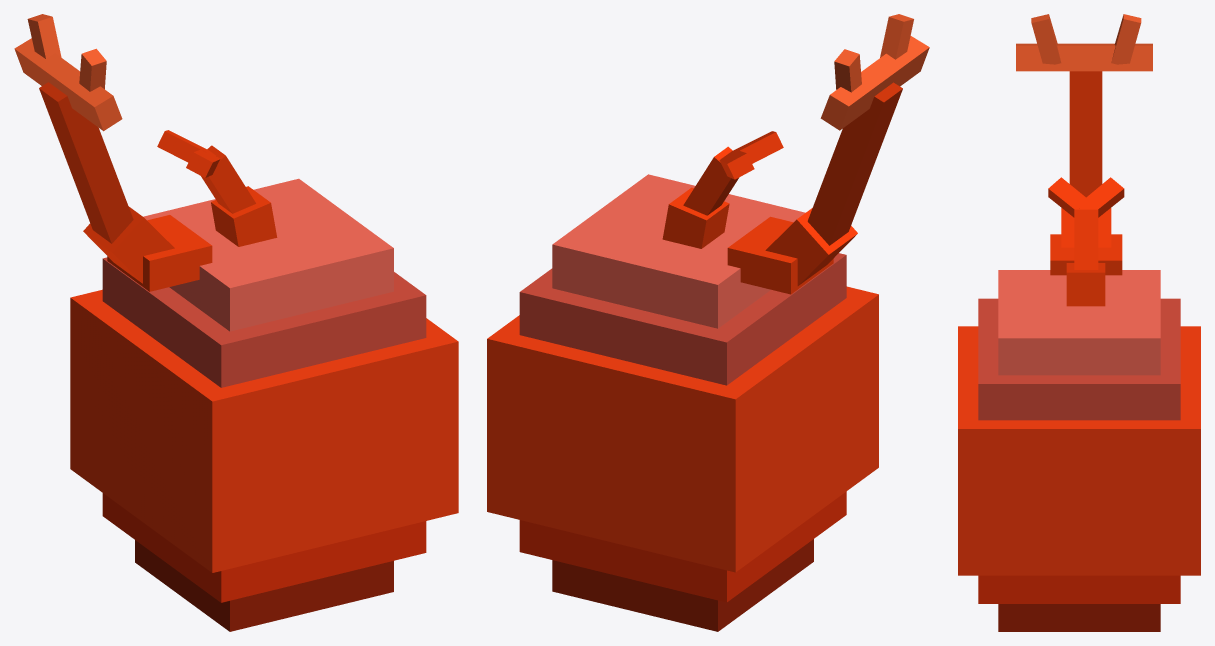
File: egg_prismatic.obj
3 views of the same model, side by side, from view 1: azimuth 30°, elevation 25°; view 2: azimuth 150°, elevation 25°; view 3: azimuth 270°, elevation 25° (orthographic). The views are drawn at different scales.
Visible parts, largest first — view 1: E3, E1U, E2U, E2D, E1D; view 2: E3, E1U, E2U, E2D, E1D; view 3: E3, E1U, E2U, E2D, E1D.
Boxes of the visible parts, bbox=[...] form: E3: bbox=[70, 289, 458, 572]; E1U: bbox=[14, 14, 393, 331]; E2U: bbox=[102, 257, 426, 387]; E2D: bbox=[102, 493, 426, 602]; E1D: bbox=[135, 540, 393, 631]; E3: bbox=[487, 286, 878, 572]; E1U: bbox=[552, 14, 929, 328]; E2U: bbox=[519, 253, 846, 385]; E2D: bbox=[519, 491, 846, 602]; E1D: bbox=[552, 539, 813, 631]; E3: bbox=[958, 326, 1200, 575]; E1U: bbox=[998, 14, 1160, 375]; E2U: bbox=[978, 298, 1180, 420]; E2D: bbox=[978, 575, 1180, 603]; E1D: bbox=[998, 604, 1160, 631].
Size of the model in its own units: 5.09 by 8.52 by 3.74.
